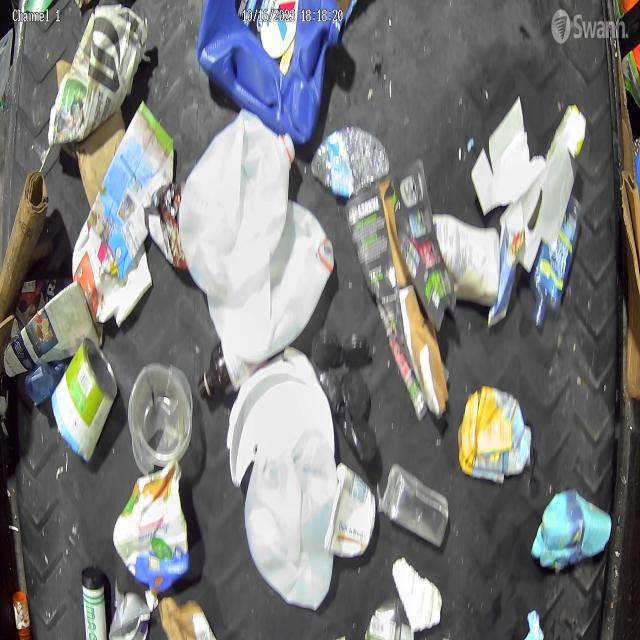can: (50, 336, 118, 464), (108, 589, 153, 640)
milk_jug: (178, 106, 296, 298), (206, 198, 336, 364), (245, 426, 338, 612)
non_white_jug: (197, 0, 347, 145)
plastic_bottle: (310, 128, 390, 198)
